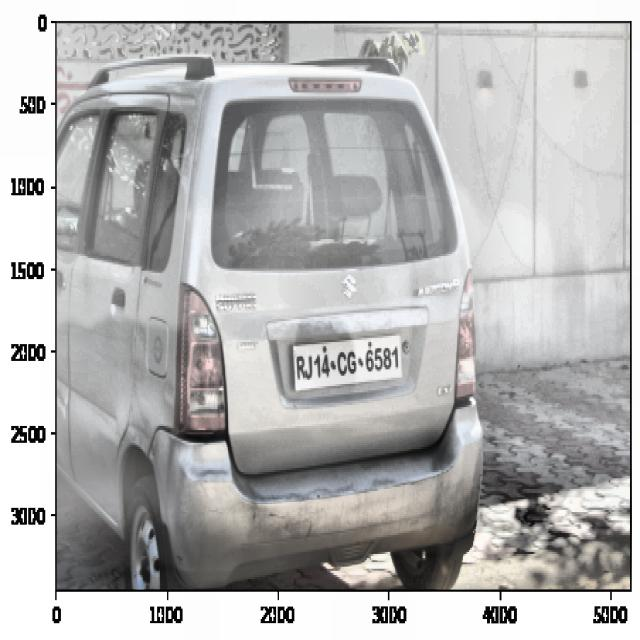license_plate: (292, 339, 402, 387)
